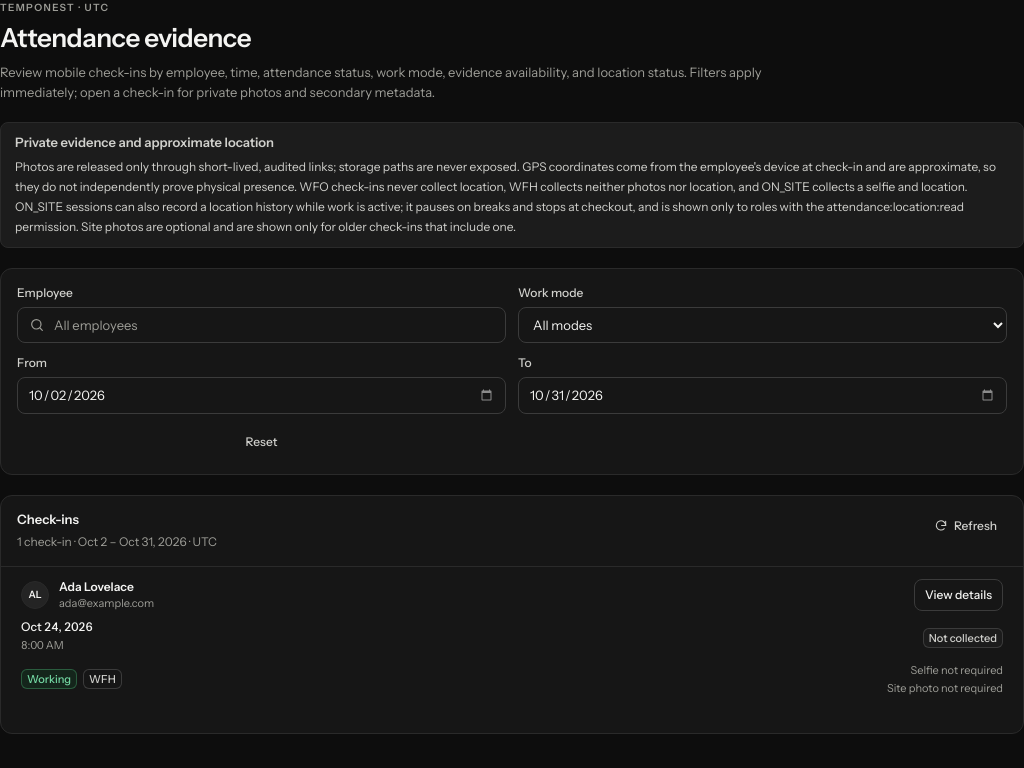
Test: AttendanceEvidenceView › keeps the compact grid and drawer usable in dark mode
Click the button with aria-label "View attendance details for" at (958, 595), box [914,579,1003,611]
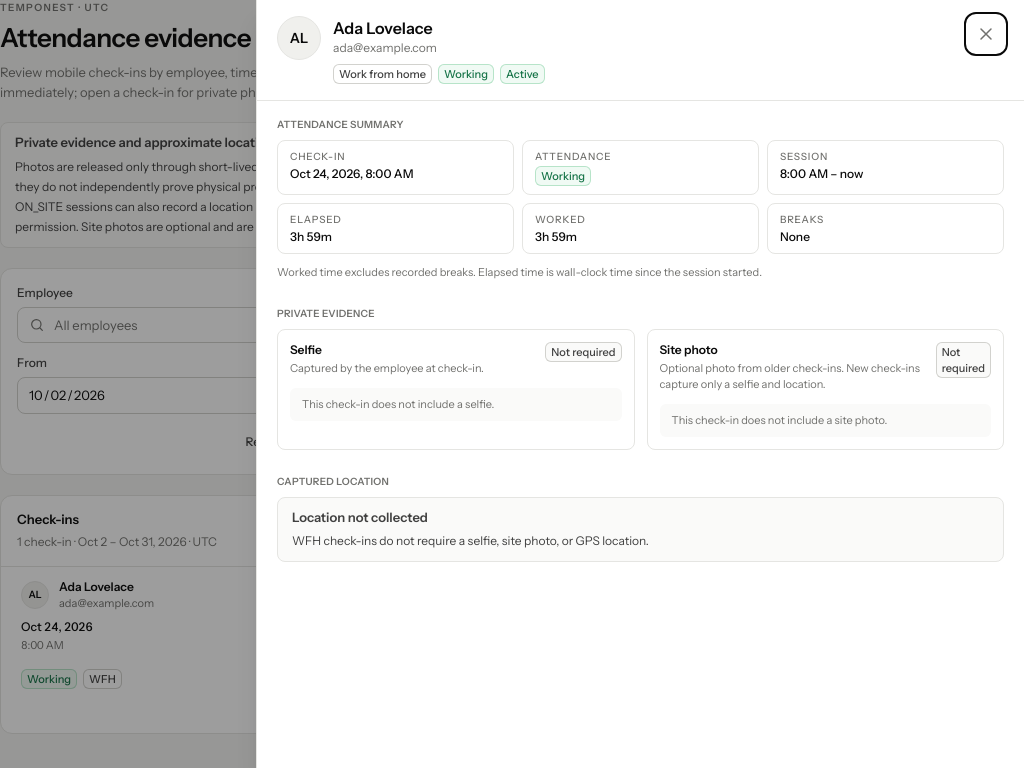
Result: the dialog is shown
